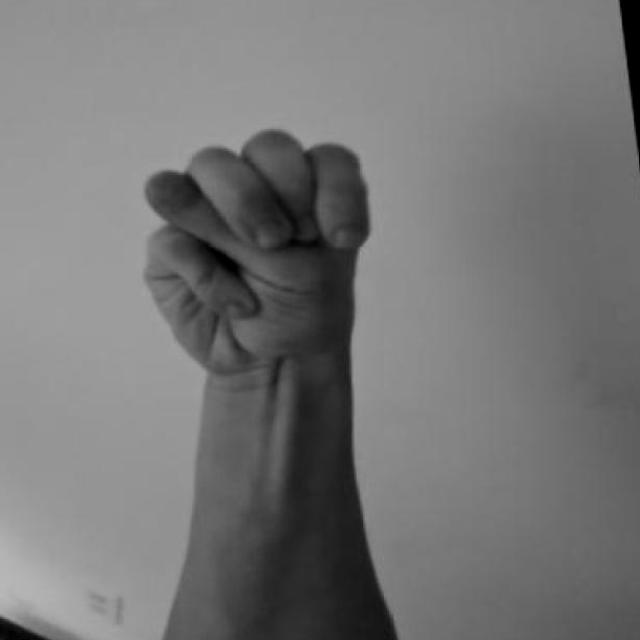M: (136, 117, 378, 386)
